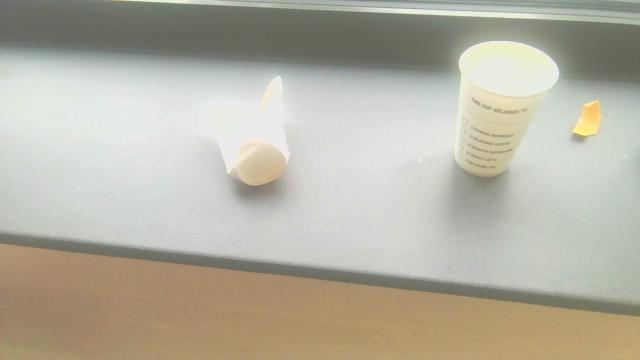cup: (448, 36, 564, 186), (205, 70, 299, 187)
